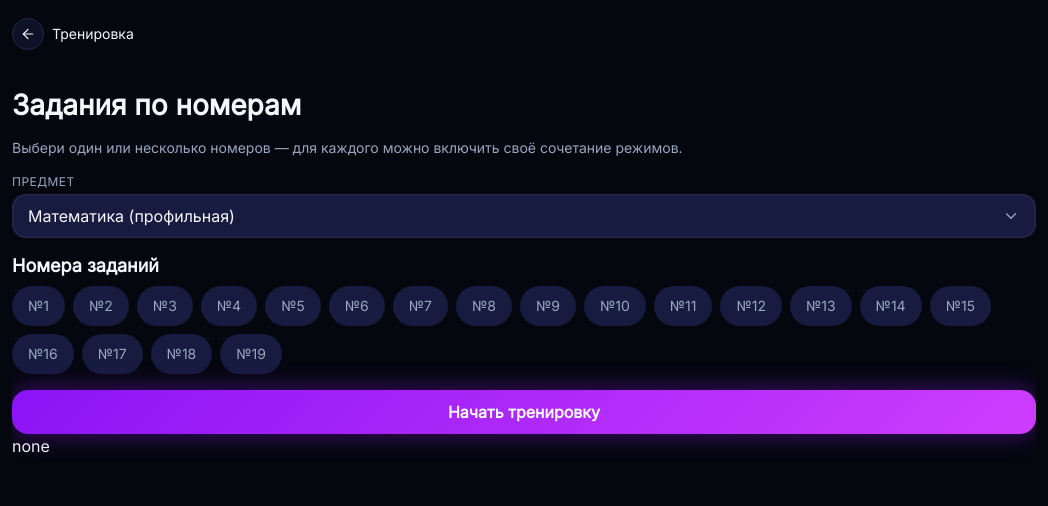
TrainingByNumber › requires at least one number before starting
Step 1. Click the button "Начать тренировку" → point(524, 412), box [12,390,1036,434]
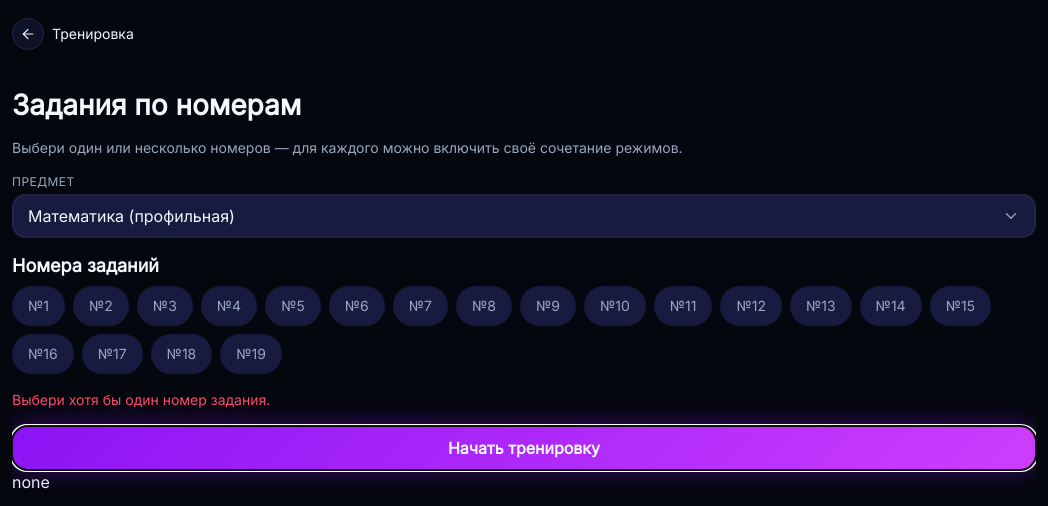
expect the text "Выбери хотя бы один номер задания." is shown: met, box [12,391,270,408]
